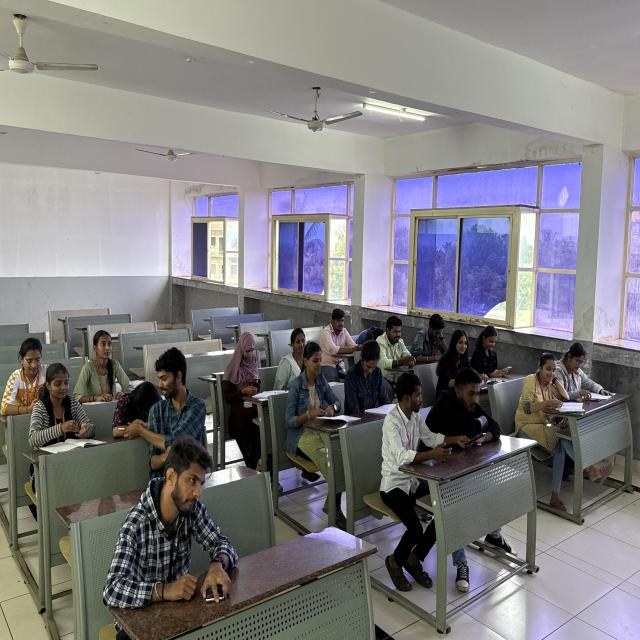Reading: (344, 337, 402, 417), (558, 336, 612, 405)
Sleeping: (106, 378, 168, 444)
Using Phone: (381, 366, 487, 472), (0, 333, 53, 418), (220, 330, 269, 418), (373, 314, 427, 374), (469, 316, 515, 376)
Writing: (285, 342, 358, 436), (512, 349, 588, 437)
